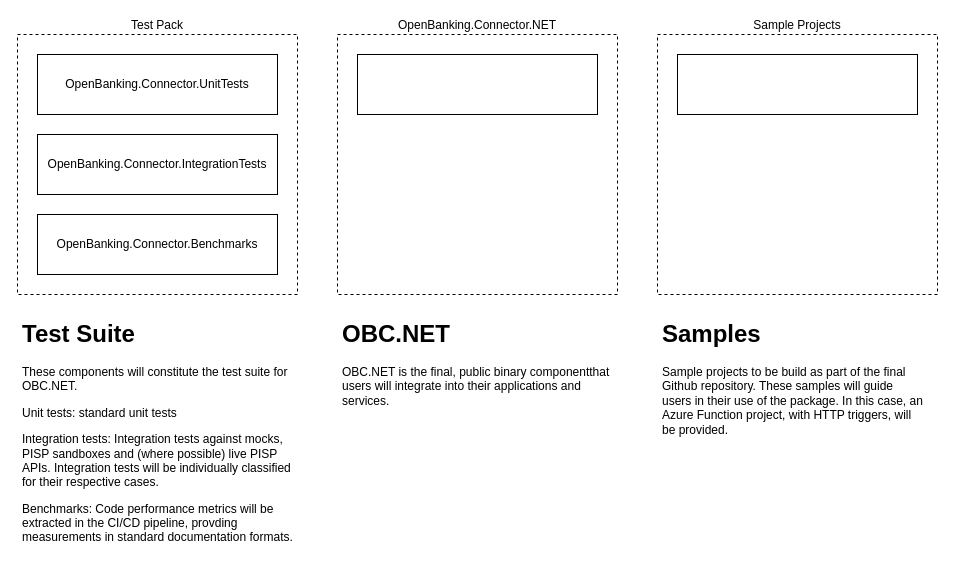
The diagram is 955 pixels wide and 581 high, and some of its shapes have lost their labels. The centre of each missing label's shape, as x and y in pixels:
OpenBanking.Connector: (x=477, y=84)
OpenBanking.Service.Payments: (x=797, y=84)
